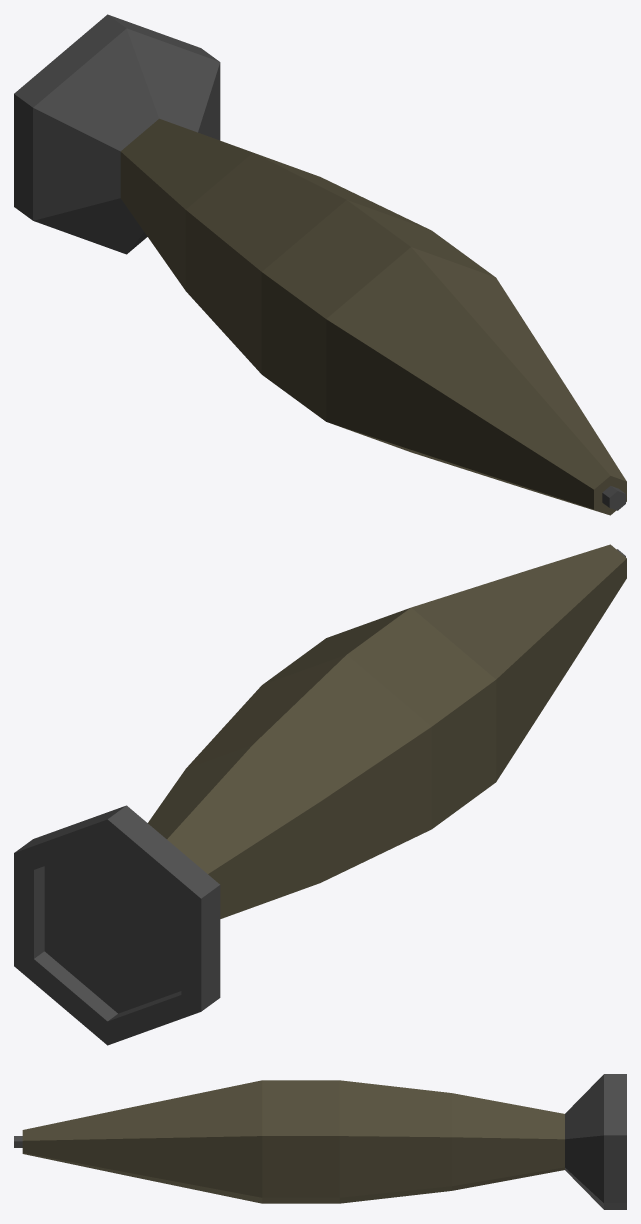
File: Lvl4_Kraken_Bullet_Model.fbx
3 views of the same model, one above another, from view 1: azimuth 30°, elevation 25°; view 2: azimuth 150°, elevation 25°; view 3: azimuth 270°, elevation 25° (orthographic). The views are drawn at different scales.
Visible parts, largest first — view 1: Cylinder.024; view 2: Cylinder.024; view 3: Cylinder.024.
Part boxes in pixels (x1=…): Cylinder.024: x1=14, y1=14, x2=626, y2=515; Cylinder.024: x1=14, y1=544, x2=626, y2=1045; Cylinder.024: x1=14, y1=1074, x2=626, y2=1209.
Size of the model in its own units: 17.25 by 19.92 by 81.46.
